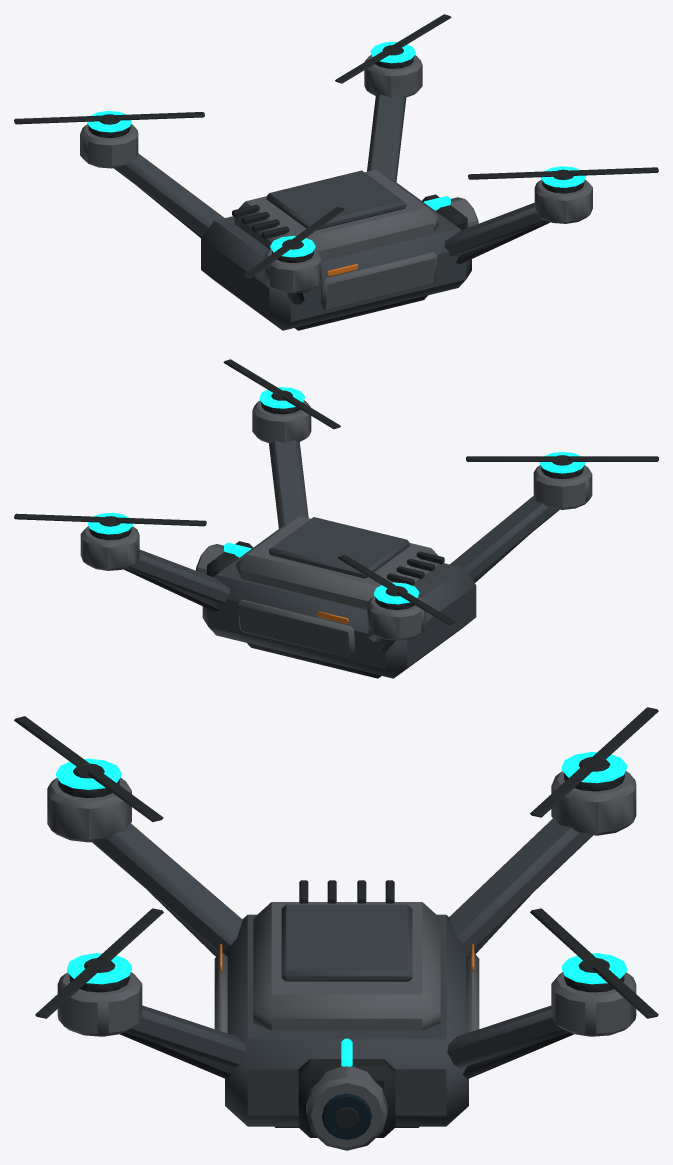
The model's file is Drone.fbx.
3 renders of one model, top to bottom at view 1: azimuth 30°, elevation 25°; view 2: azimuth 150°, elevation 25°; view 3: azimuth 270°, elevation 25°, orthographic. The views are drawn at different scales.
Parts seen in each view (by area): view 1: Drone_Body, Upper_Armor, Top_Armor_Panel, Side_Armor_-1, Arm_3, Arm_1, Arm_2, Motor_2, Motor_3, Motor_4, Motor_1, Lower_Armor (+10 smaller); view 2: Drone_Body, Upper_Armor, Top_Armor_Panel, Side_Armor_1, Arm_4, Arm_2, Arm_1, Motor_1, Motor_4, Motor_3, Motor_2, Lower_Armor (+10 smaller); view 3: Drone_Body, Upper_Armor, Top_Armor_Panel, Arm_4, Arm_3, Motor_2, Motor_1, Motor_4, Motor_3, Camera_Housing, Arm_1, Arm_2 (+18 smaller).
Part boxes in pixels (x1,y1,x2,y2): Drone_Body: (201, 178, 471, 330); Upper_Armor: (234, 169, 438, 258); Top_Armor_Panel: (266, 170, 406, 229); Side_Armor_-1: (321, 252, 437, 310); Arm_3: (114, 153, 224, 234); Arm_1: (367, 94, 406, 181); Arm_2: (444, 202, 548, 257); Motor_2: (534, 179, 592, 223); Motor_3: (80, 124, 138, 168); Motor_4: (263, 249, 321, 293); Motor_1: (364, 55, 422, 97); Lower_Armor: (295, 295, 427, 330); Drone_Body: (202, 524, 476, 678); Upper_Armor: (236, 516, 442, 609); Top_Armor_Panel: (269, 517, 409, 578); Side_Armor_1: (237, 599, 354, 658); Arm_4: (450, 496, 559, 580); Arm_2: (269, 440, 308, 528); Arm_1: (125, 549, 229, 604); Motor_1: (80, 526, 139, 570); Motor_4: (533, 465, 592, 509); Motor_3: (367, 596, 426, 640); Motor_2: (252, 400, 311, 443); Lower_Armor: (247, 643, 381, 678); Drone_Body: (225, 914, 468, 1126); Upper_Armor: (253, 902, 440, 1030); Top_Armor_Panel: (281, 904, 412, 981); Arm_4: (92, 823, 242, 954); Arm_3: (449, 817, 592, 953); Motor_2: (57, 972, 142, 1036); Motor_1: (551, 972, 636, 1036); Motor_4: (47, 777, 131, 842); Motor_3: (551, 771, 636, 835); Camera_Housing: (306, 1066, 387, 1150); Arm_1: (447, 1005, 569, 1068); Arm_2: (124, 1005, 246, 1068).
Size of the model in its own units: 76.97 by 32.09 by 87.39.
